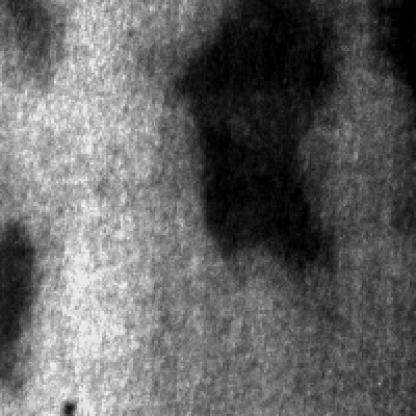patches: (198, 8, 326, 266), (4, 2, 74, 96), (2, 227, 38, 389), (372, 2, 416, 96)
